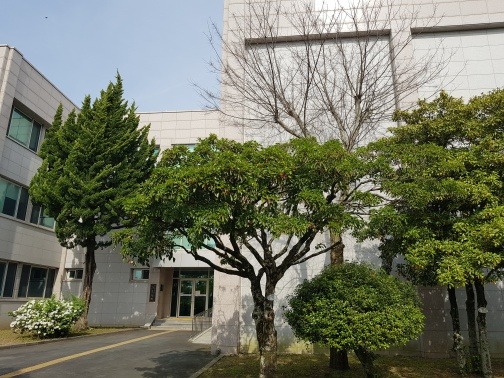College of Nursing: (16, 14, 477, 355)
